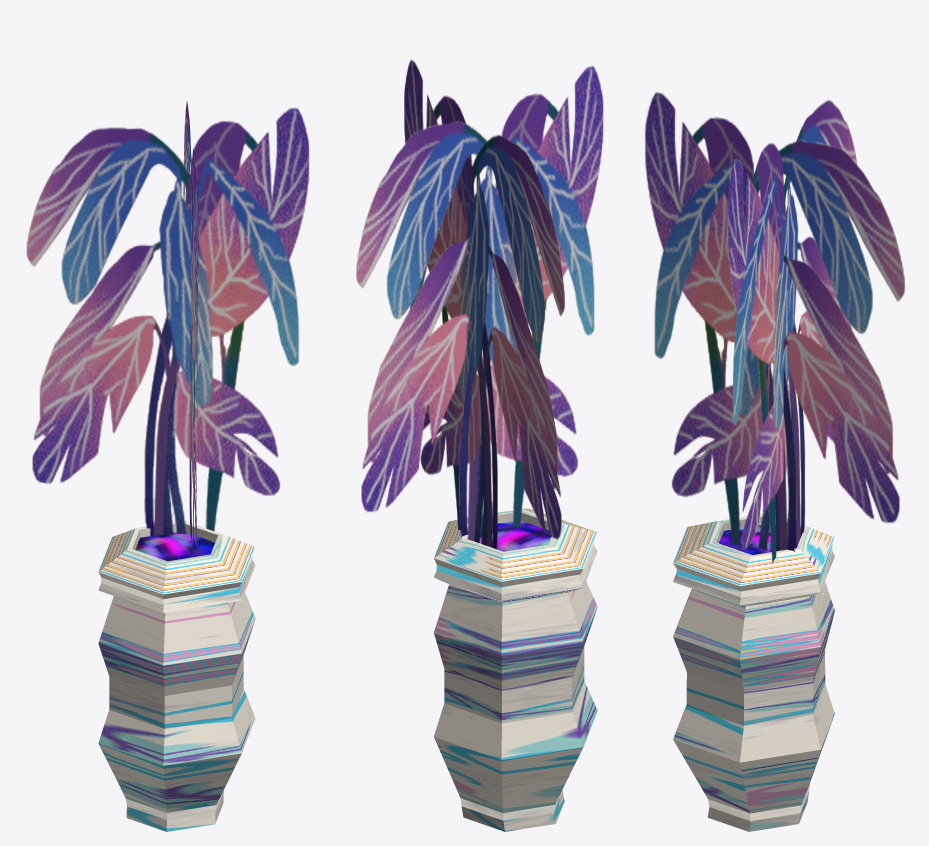
File: Pot_Retro_05.glb
3 views of the same model, side by side, from view 1: azimuth 30°, elevation 25°; view 2: azimuth 150°, elevation 25°; view 3: azimuth 270°, elevation 25° (orthographic). The views are drawn at different scales.
Parts seen in each view (by area): view 1: Pot_Retro_05; view 2: Pot_Retro_05; view 3: Pot_Retro_05.
Boxes of the visible parts, x1,y1,x2,y2 form: Pot_Retro_05: (26, 101, 309, 831); Pot_Retro_05: (356, 59, 603, 831); Pot_Retro_05: (645, 92, 904, 831).
Bounding box in the file's own units: 1.01 × 2.95 × 0.9955.
Materials: 4 (4 with a texture image).
